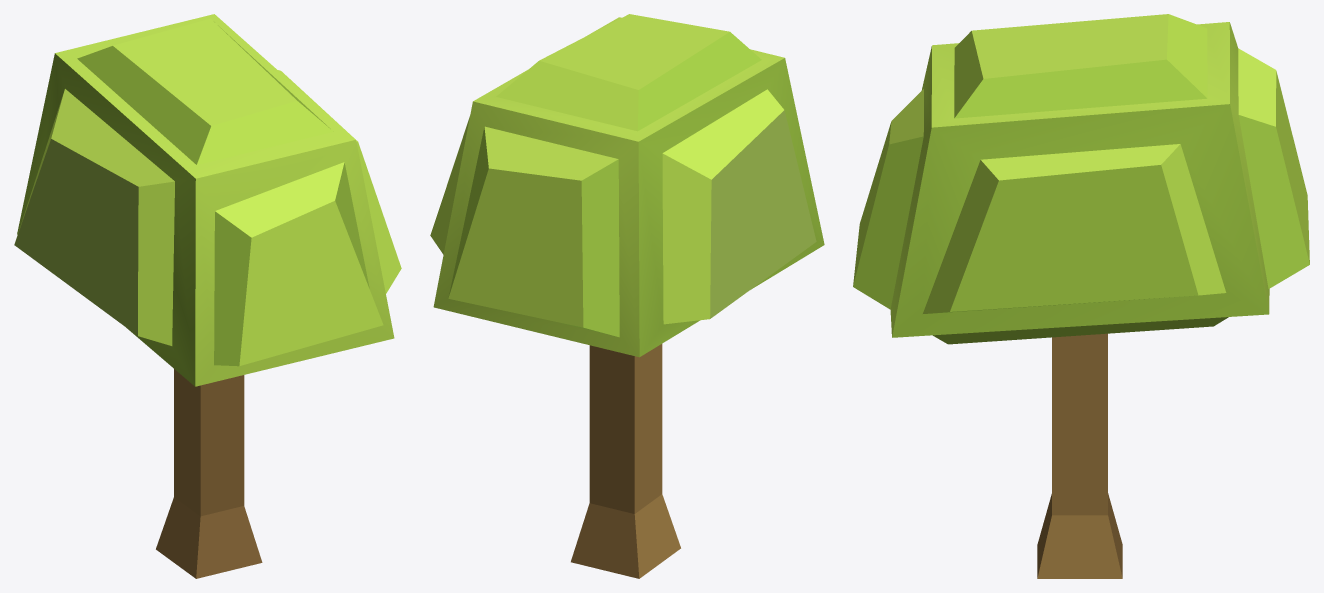
File: tree1.obj
3 renders of one model, left to right at view 1: azimuth 30°, elevation 25°; view 2: azimuth 150°, elevation 25°; view 3: azimuth 270°, elevation 25°, orthographic. The views are drawn at different scales.
Visible parts, largest first — view 1: ST_Prop_Tree_01_Untitled; view 2: ST_Prop_Tree_01_Untitled; view 3: ST_Prop_Tree_01_Untitled.
Boxes of the visible parts, left/top/right/bottom form: ST_Prop_Tree_01_Untitled: left=14, top=14, right=401, bottom=578; ST_Prop_Tree_01_Untitled: left=430, top=14, right=824, bottom=578; ST_Prop_Tree_01_Untitled: left=853, top=14, right=1309, bottom=578.
Size of the model in its own units: 2.67 by 4.68 by 3.7.
